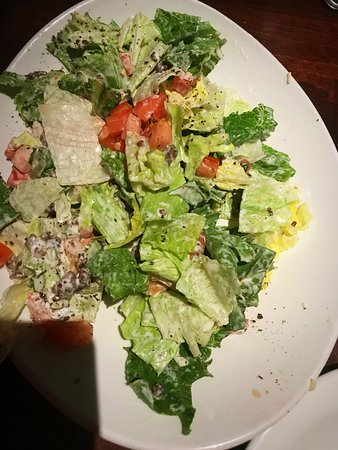chopped lettuce: (114, 70, 229, 341)
